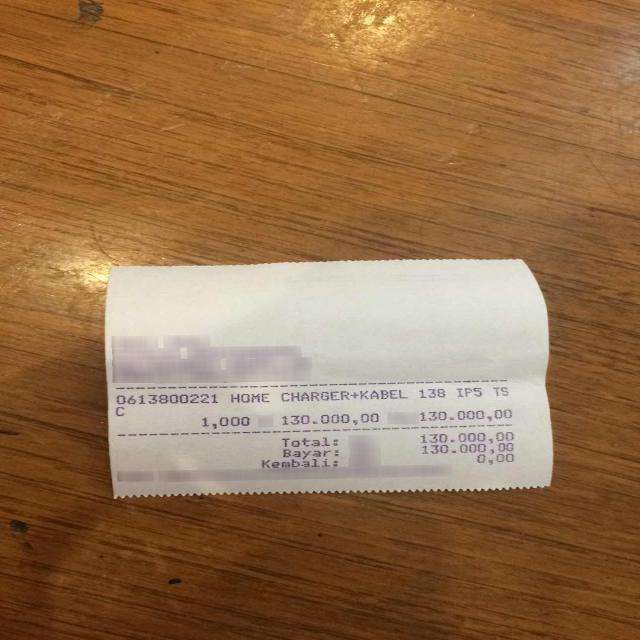kertas: (105, 257, 554, 498)
